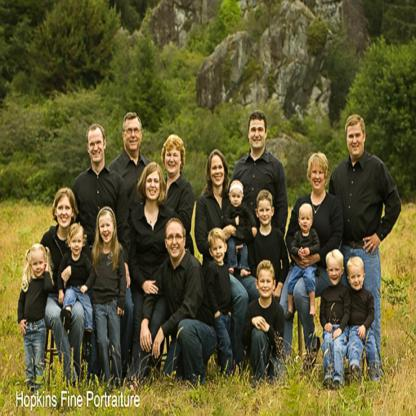face: (167, 222, 185, 259), (88, 130, 105, 162), (349, 124, 365, 156), (126, 120, 143, 150), (57, 197, 73, 228), (259, 268, 274, 298), (211, 155, 225, 187), (250, 121, 266, 149), (100, 216, 115, 244), (166, 148, 182, 174), (147, 172, 161, 200), (312, 162, 326, 190), (32, 251, 46, 278), (259, 201, 273, 225), (329, 260, 342, 285), (212, 240, 226, 262), (72, 230, 84, 255), (350, 268, 363, 291), (301, 211, 314, 232), (231, 190, 243, 208)
